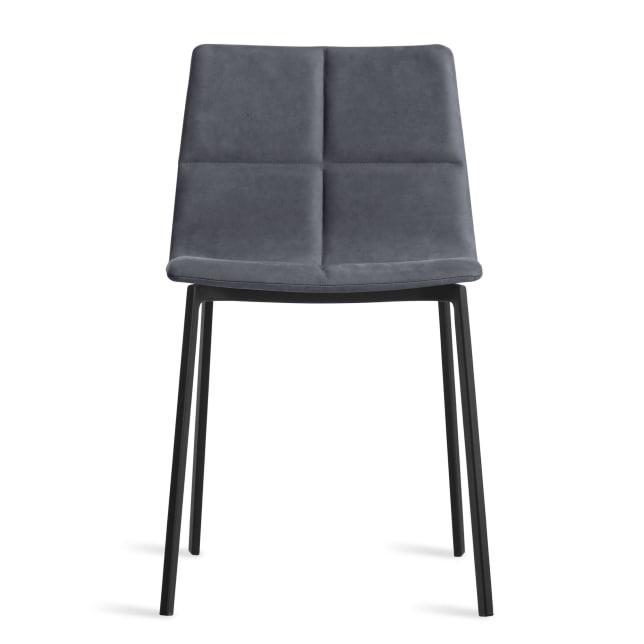chair: (143, 33, 560, 644)
